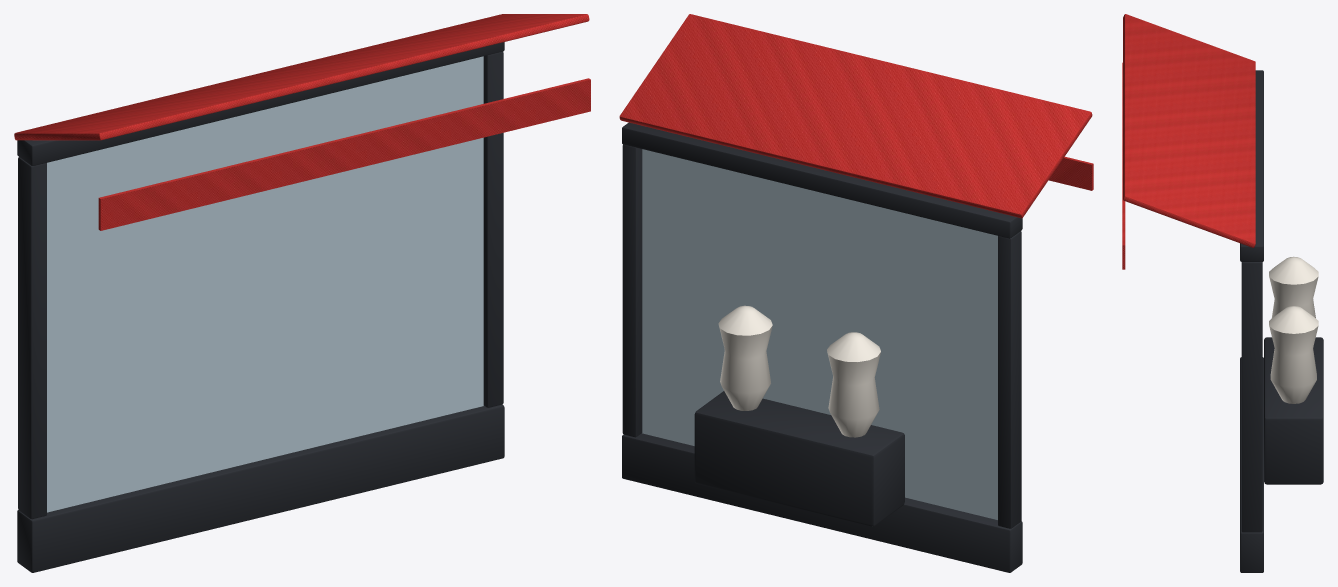
File: fachada-vitrine-26.glb
The picture shows the model from 3 angles, left to right: view 1: azimuth 30°, elevation 25°; view 2: azimuth 150°, elevation 25°; view 3: azimuth 270°, elevation 25°; orthographic projection. The views are drawn at different scales.
Parts seen in each view (by area): view 1: vidro, soleira, sanefa, toldo, coluna, coluna.001, verga; view 2: vidro, toldo, expositor, soleira, verga, coluna, coluna.001, busto, busto.001, sanefa; view 3: toldo, expositor, coluna.001, busto.001, busto, verga, soleira, sanefa.
Boxes of the visible parts, x1,y1,x2,y2 form: vidro: [47, 56, 483, 512]; soleira: [17, 404, 504, 572]; sanefa: [98, 78, 590, 230]; toldo: [14, 14, 589, 140]; coluna: [18, 157, 46, 519]; coluna.001: [483, 51, 503, 407]; verga: [17, 42, 504, 165]; vidro: [642, 149, 997, 519]; toldo: [619, 14, 1092, 218]; expositor: [694, 391, 904, 526]; soleira: [622, 433, 1022, 572]; verga: [622, 122, 1022, 238]; coluna: [998, 231, 1021, 528]; coluna.001: [622, 144, 642, 437]; busto: [827, 332, 880, 437]; busto.001: [718, 305, 772, 410]; sanefa: [1049, 156, 1093, 190]; toldo: [1123, 14, 1255, 247]; expositor: [1264, 337, 1323, 484]; coluna.001: [1241, 262, 1262, 532]; busto.001: [1269, 306, 1318, 403]; busto: [1269, 256, 1318, 318]; verga: [1240, 70, 1263, 261]; soleira: [1240, 357, 1263, 572]; sanefa: [1122, 62, 1125, 269].
Size of the model in its own units: 2.9 by 2.81 by 1.35.
Materials: 4 (1 with a texture image).
